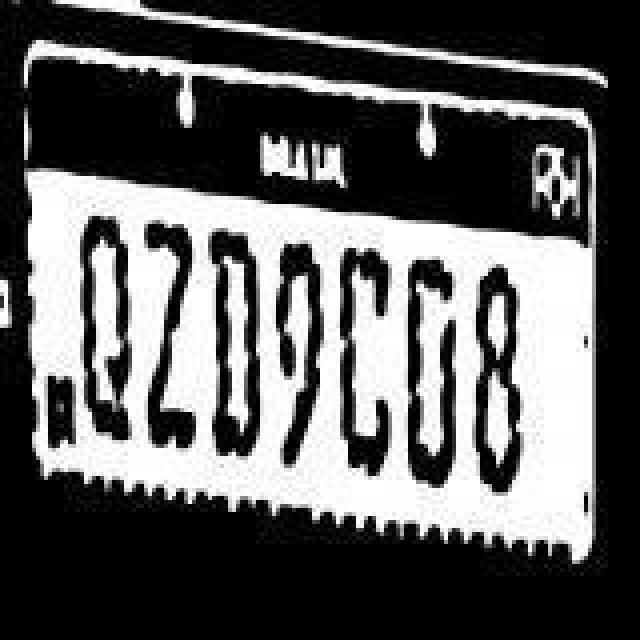8: (470, 260, 522, 500)
9: (274, 232, 326, 472)
C: (338, 238, 390, 482)
D: (208, 220, 264, 460), (406, 252, 458, 492)
Q: (76, 204, 132, 452)
Z: (140, 216, 196, 456)
